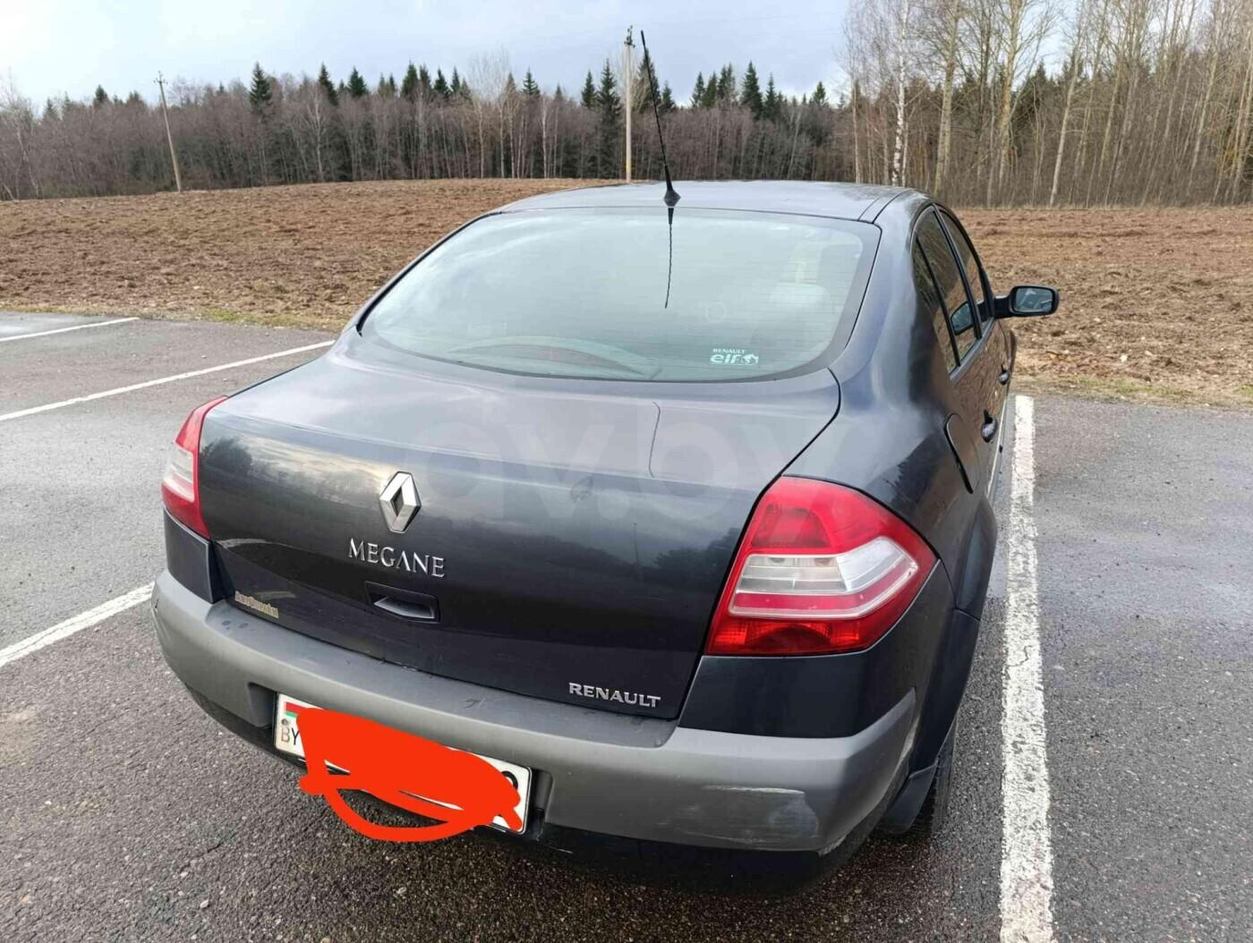Megane_2005-2009: (152, 162, 1034, 854)
